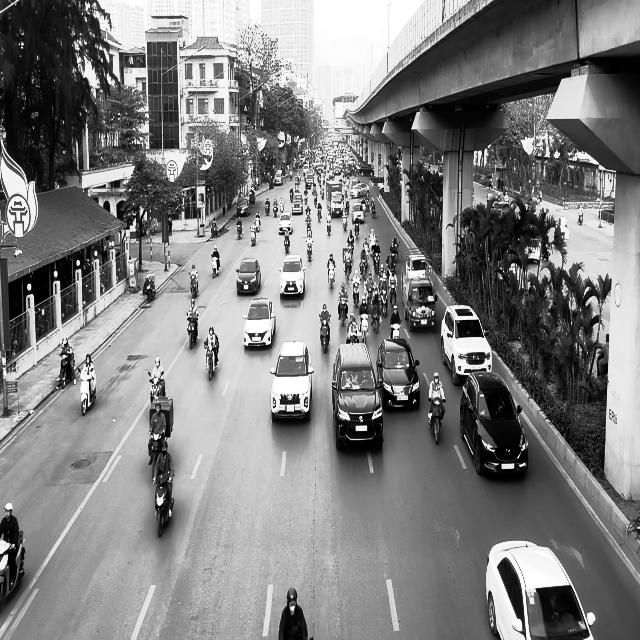car: (486, 538, 596, 640), (459, 371, 528, 476), (331, 342, 384, 450), (440, 303, 492, 386), (269, 340, 314, 422), (376, 337, 421, 409), (242, 297, 276, 349), (403, 278, 437, 330), (278, 254, 306, 298), (236, 258, 260, 295), (278, 212, 293, 234)
motorbike: (0, 530, 25, 606), (153, 471, 174, 537), (148, 430, 166, 481), (77, 368, 96, 415), (428, 397, 445, 444), (204, 340, 218, 381), (148, 370, 165, 403), (319, 314, 331, 354), (186, 312, 198, 349), (142, 274, 156, 302), (190, 273, 198, 299), (211, 255, 220, 278), (236, 222, 243, 240)
